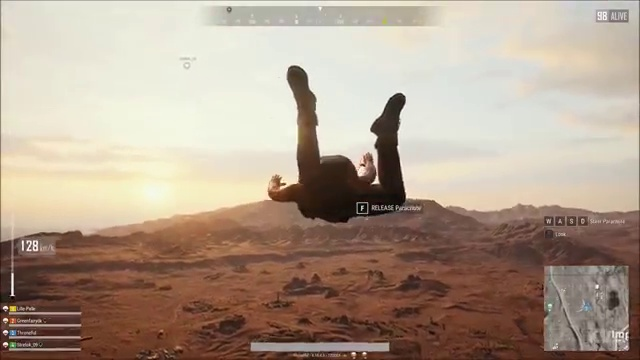Player: (232, 60, 443, 240)
